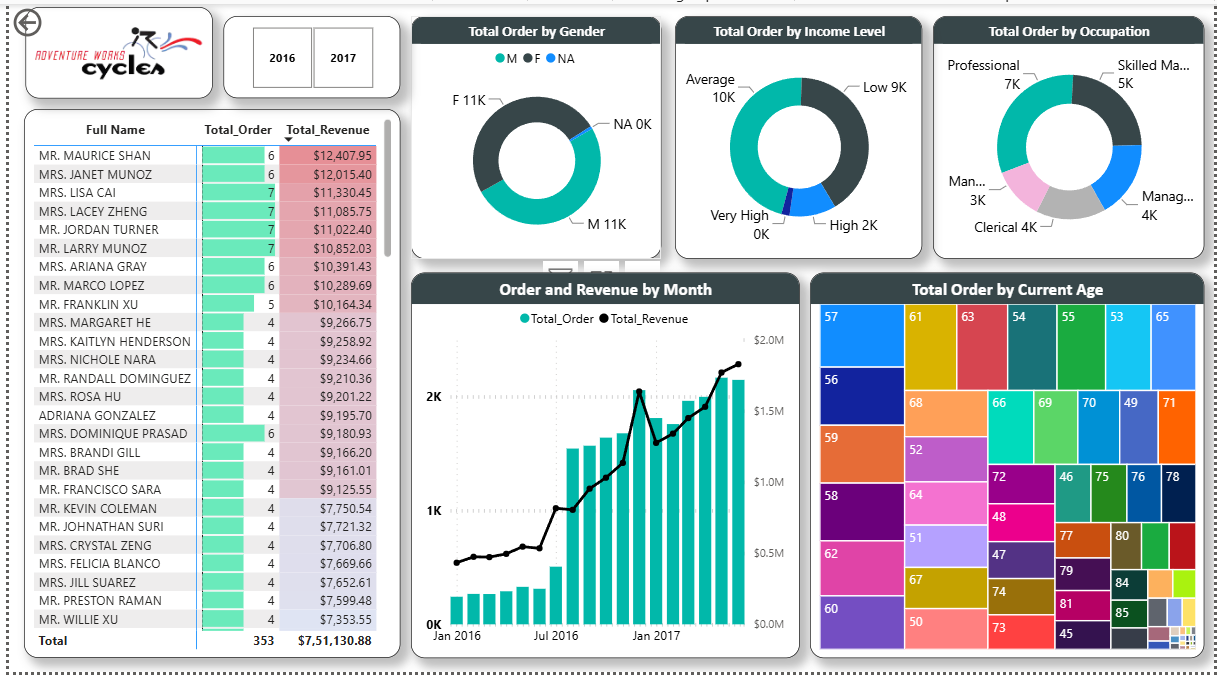

This screenshot's page, from the dashboard's own definition file:
{"tool":"powerbi","page":{"name":"Customer Detail","canvas":[1300,720],"ordinal":1},"visuals":[{"type":"pivotTable","fields":{"Rows":["AW_Customers.Full_Name"],"Values":["AW_Sales_Data_2015_17.Total_Order","AW_Sales_Data_2015_17.Total_Revenue"]},"box":[16.2,113.3,406.1,592.2],"z":0},{"type":"donutChart","title":"Total Order by Gender","fields":{"Category":["AW_Customers.Gender"],"Y":["AW_Sales_Data_2015_17.Total_Order"]},"box":[434.2,13.5,270.2,262.1],"z":1000},{"type":"donutChart","title":"Total Order by Occupation","fields":{"Y":["AW_Sales_Data_2015_17.Total_Order"],"Category":["AW_Customers.Occupation"]},"box":[997.2,13.5,292.9,262.1],"z":2000},{"type":"donutChart","title":"Total Order by Income Level","fields":{"Y":["AW_Sales_Data_2015_17.Total_Order"],"Category":["AW_Customers.Income Level"]},"box":[718.9,13.5,267,262.1],"z":3000},{"type":"lineClusteredColumnComboChart","title":"Order and Revenue by Month","fields":{"Category":["AW_Calendar.Start of Month"],"Y":["AW_Sales_Data_2015_17.Total_Order"],"Y2":["AW_Sales_Data_2015_17.Total_Revenue"]},"box":[433.6,289.6,419.1,415.8],"z":4000},{"type":"treemap","title":"Total Order by Current Age","fields":{"Group":["AW_Customers.Current_Age"],"Values":["AW_Sales_Data_2015_17.Total_Order"]},"box":[864,289.6,425.5,415.8],"z":5000},{"type":"image","box":[17.8,3.2,202.2,98.7],"z":6000},{"type":"slicer","fields":{"Values":["AW_Calendar.Year"]},"box":[231.4,12.9,190.9,89],"z":7000},{"type":"actionButton","box":[0,0,100,40],"z":8000}]}

Visuals, with their boxes in screenshot pixels (x1, y1, x2, y2), scaled from the page's 1300x720 canvas onto the 1217x676 screenshot:
pivotTable - AW_Customers.Full_Name x AW_Sales_Data_2015_17.Total_Order: x1=15 y1=106 x2=395 y2=662
"Total Order by Gender" donutChart: x1=406 y1=13 x2=659 y2=259
"Total Order by Occupation" donutChart: x1=934 y1=13 x2=1208 y2=259
"Total Order by Income Level" donutChart: x1=673 y1=13 x2=923 y2=259
"Order and Revenue by Month" lineClusteredColumnComboChart: x1=406 y1=272 x2=798 y2=662
"Total Order by Current Age" treemap: x1=809 y1=272 x2=1207 y2=662
image: x1=17 y1=3 x2=206 y2=96
slicer - AW_Calendar.Year: x1=217 y1=12 x2=395 y2=96
actionButton: x1=0 y1=0 x2=94 y2=38
